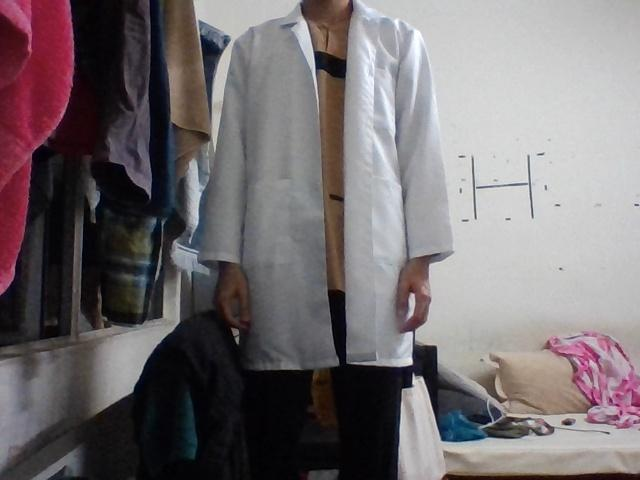lab_coat: (195, 1, 453, 373)
